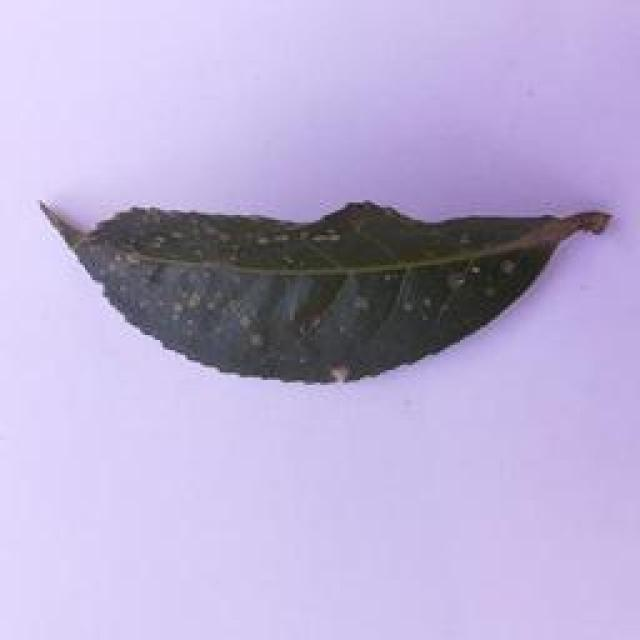Algal Leaf Spot: (38, 178, 612, 392)
